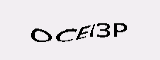І: (89, 18, 98, 40)
Е: (77, 21, 89, 41)
З: (98, 17, 112, 41)
О: (29, 24, 51, 45)
Р: (112, 18, 127, 42)
С: (55, 24, 77, 45)
